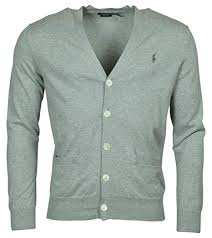S_cardigan sweater: (6, 10, 212, 225)
